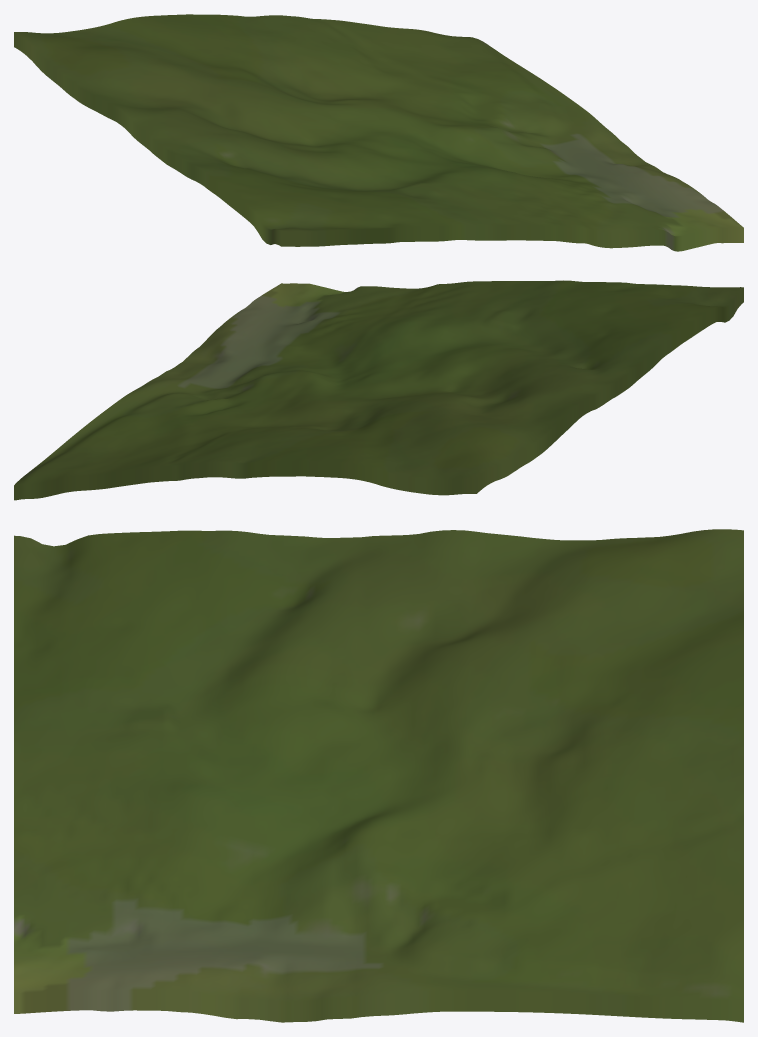
The model's file is terrain_7_-18.glb.
3 renders of one model, top to bottom at view 1: azimuth 30°, elevation 25°; view 2: azimuth 150°, elevation 25°; view 3: azimuth 270°, elevation 25°, orthographic. The views are drawn at different scales.
Parts seen in each view (by area): view 1: terrain_7_-18; view 2: terrain_7_-18; view 3: terrain_7_-18.
Boxes of the visible parts, x1,y1,x2,y2 form: terrain_7_-18: (14, 14, 743, 251); terrain_7_-18: (14, 280, 743, 500); terrain_7_-18: (14, 529, 743, 1022).
Bounding box in the file's own units: 256 × 71.6 × 256.
